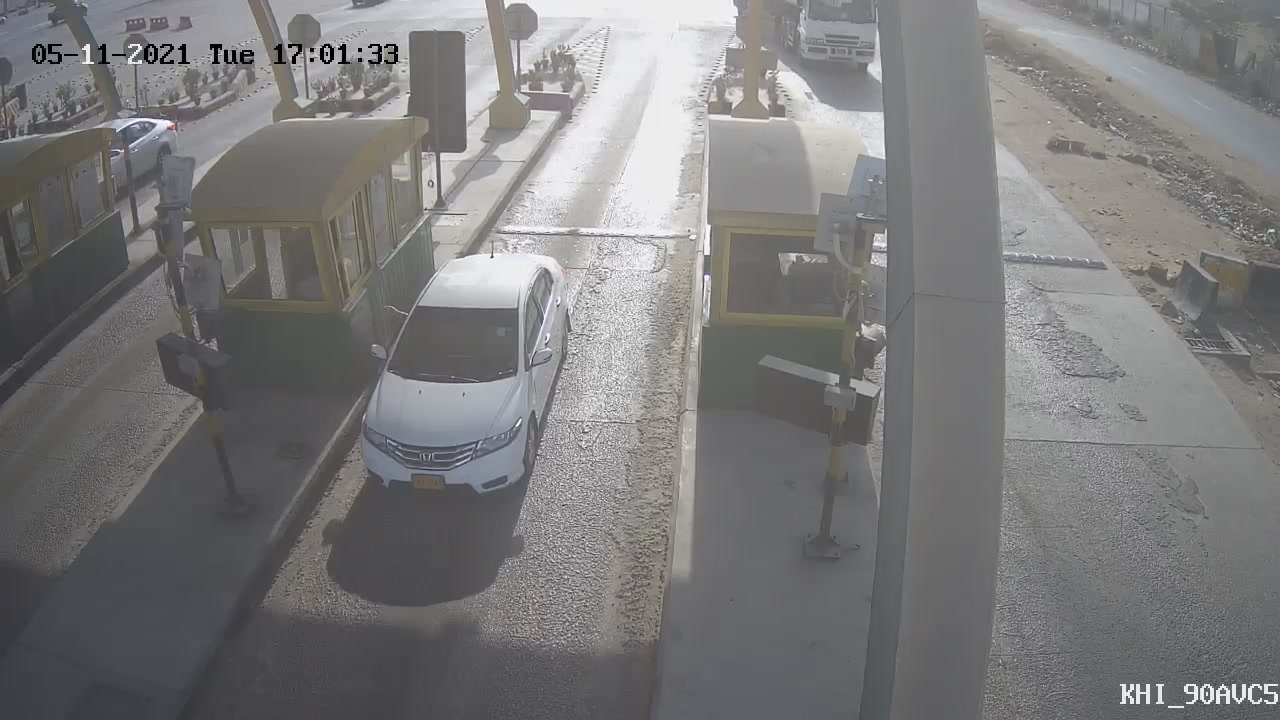F1: (327, 229, 592, 521)
